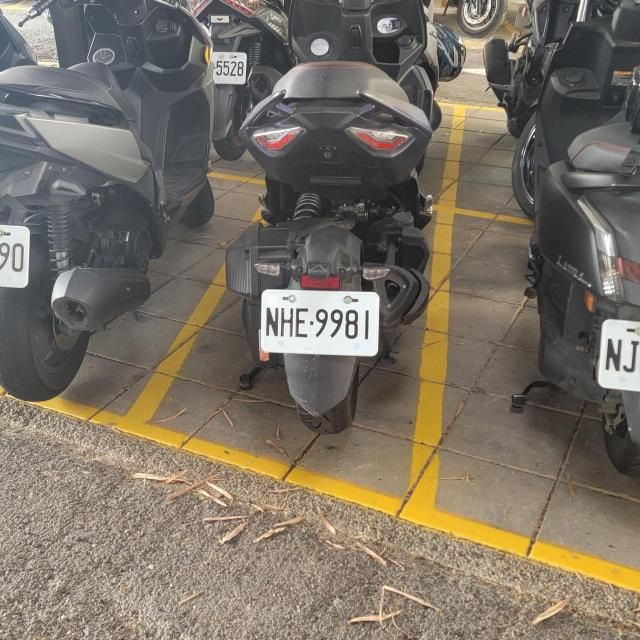W: (259, 288, 380, 355), (593, 313, 640, 403), (0, 216, 32, 292)
